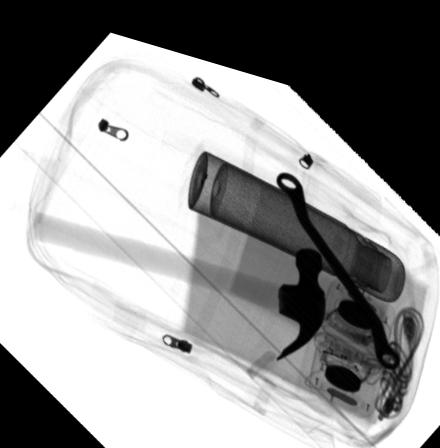Hammer: (32, 208, 325, 343)
Wrench: (275, 154, 400, 346)
